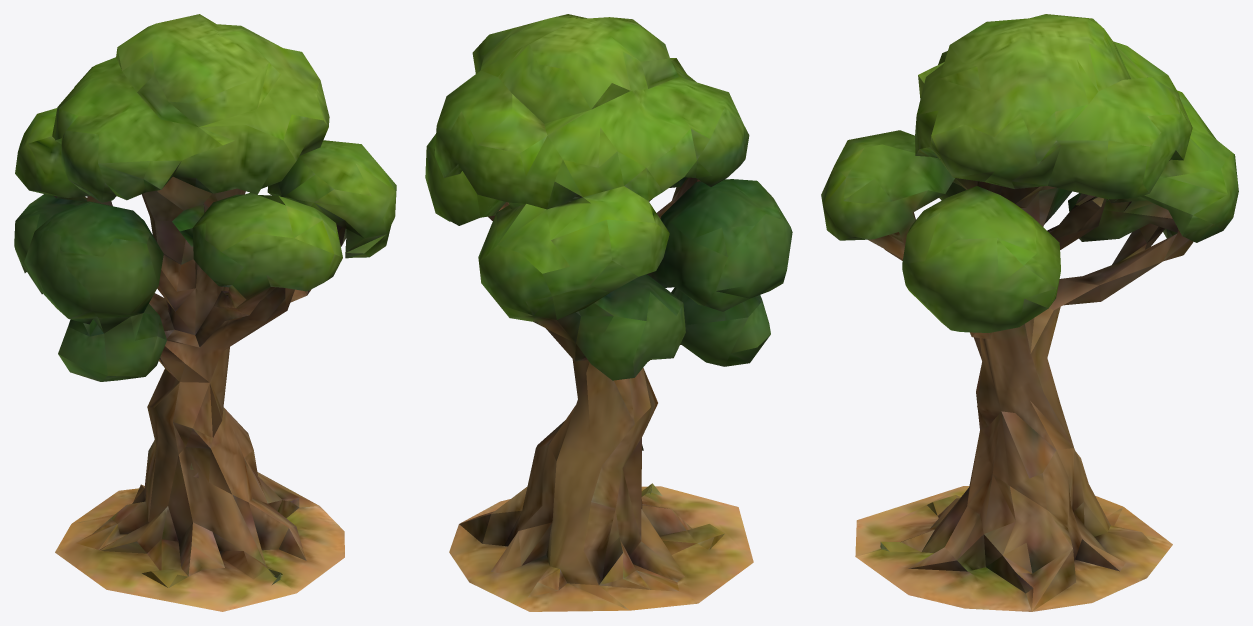
File: tree_old_orange_disc_lod1.glb
3 views of the same model, side by side, from view 1: azimuth 30°, elevation 25°; view 2: azimuth 150°, elevation 25°; view 3: azimuth 270°, elevation 25° (orthographic). The views are drawn at different scales.
Visible parts, largest first — view 1: tree_old_orange_disc_lod1; view 2: tree_old_orange_disc_lod1; view 3: tree_old_orange_disc_lod1.
Boxes of the visible parts, <box> form: tree_old_orange_disc_lod1: <box>14,14,396,611</box>; tree_old_orange_disc_lod1: <box>425,14,792,611</box>; tree_old_orange_disc_lod1: <box>821,14,1238,611</box>.
Bounding box in the file's own units: 5.61 × 7.95 × 5.73.
Materials: 1 (1 with a texture image).
